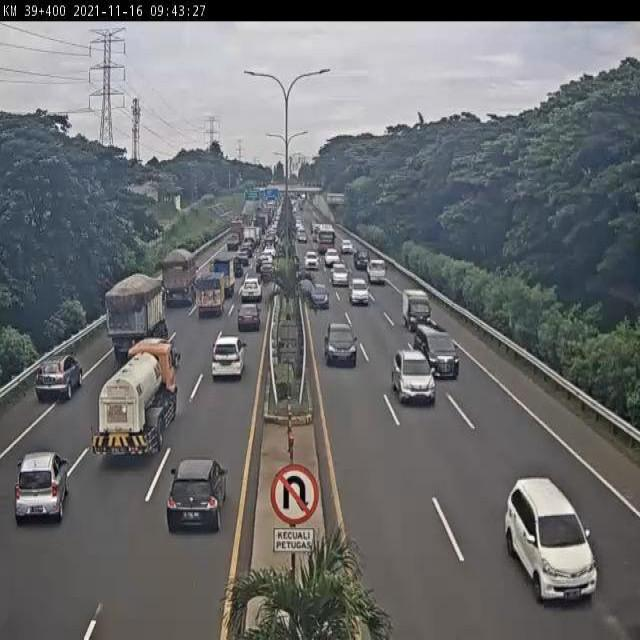big bus: (321, 227, 333, 253)
car: (505, 476, 600, 611), (170, 452, 219, 553), (8, 464, 65, 547), (29, 346, 84, 414), (411, 322, 461, 378), (393, 350, 434, 406), (323, 320, 360, 371), (211, 335, 243, 388), (406, 289, 430, 324), (238, 303, 260, 332), (239, 276, 260, 300), (369, 260, 387, 283), (352, 280, 368, 304), (314, 287, 331, 309), (354, 247, 370, 269), (324, 244, 338, 264), (261, 261, 272, 284), (332, 267, 346, 285), (305, 248, 317, 265)
truck-l-: (105, 278, 170, 362), (160, 250, 193, 310)
truck-m-: (90, 335, 182, 461), (193, 270, 221, 322), (208, 259, 234, 300)
